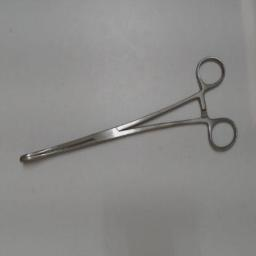Sponge Forceps: (13, 51, 241, 171)
